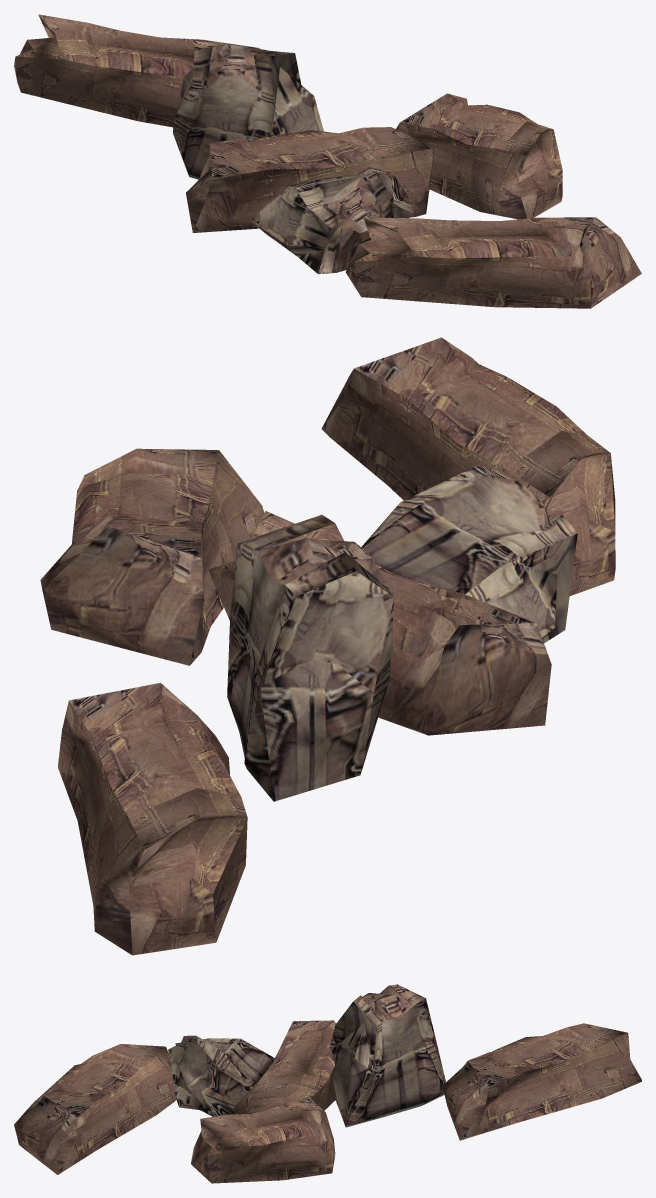
Rendered from cindufl2.glb.
3 renders of one model, top to bottom at view 1: azimuth 30°, elevation 25°; view 2: azimuth 150°, elevation 25°; view 3: azimuth 270°, elevation 25°, orthographic. The views are drawn at different scales.
Visible parts, largest first — view 1: _cindufl2; view 2: _cindufl2; view 3: _cindufl2.
Part boxes in pixels (<box>): _cindufl2: <box>14,14,641,308</box>; _cindufl2: <box>40,337,615,955</box>; _cindufl2: <box>14,984,641,1183</box>.
Size of the model in its own units: 1.54 by 0.5979 by 3.17.
Materials: 1 (1 with a texture image).
